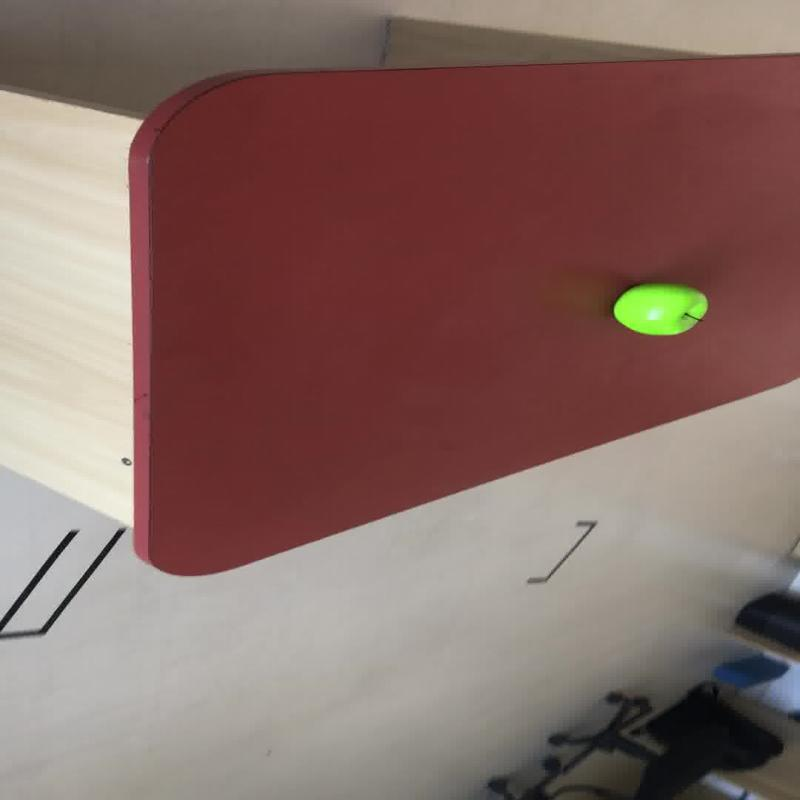apple: (610, 282, 708, 336)
